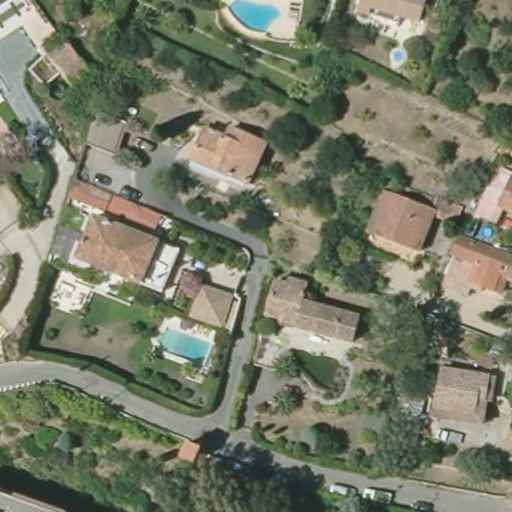pool: (150, 319, 219, 374), (227, 1, 284, 36), (384, 46, 414, 67), (482, 221, 495, 242)
